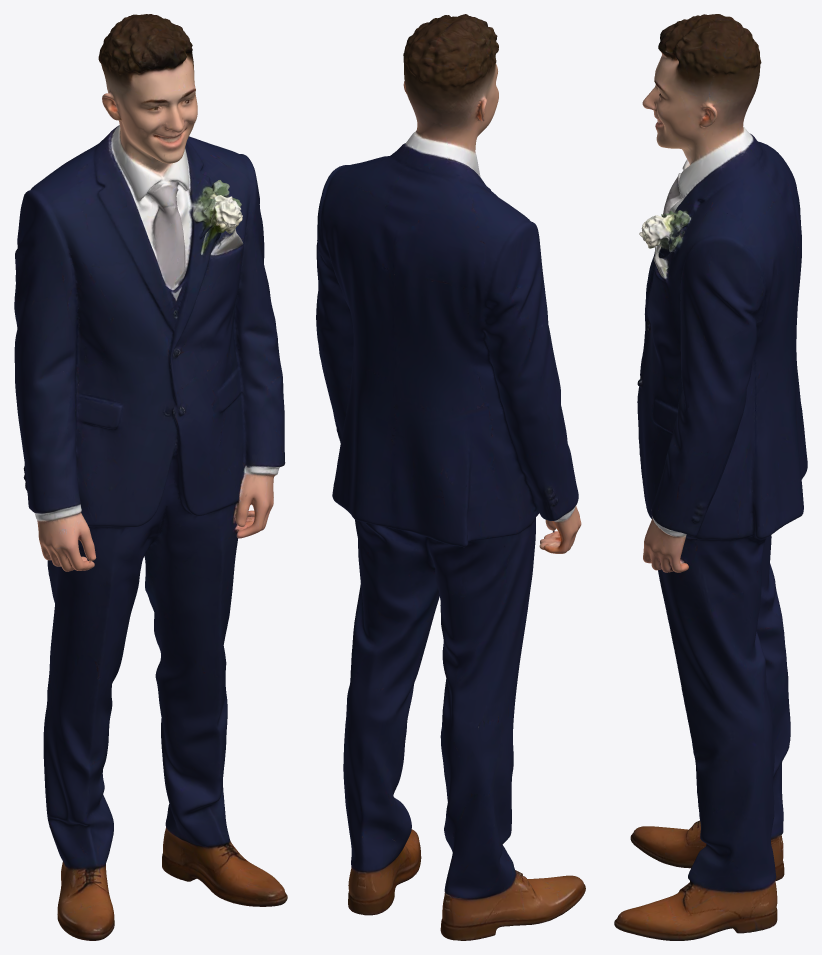
The model's file is groom.glb.
The picture shows the model from 3 angles, left to right: view 1: azimuth 30°, elevation 25°; view 2: azimuth 150°, elevation 25°; view 3: azimuth 270°, elevation 25°; orthographic projection.
Visible parts, largest first — view 1: Object_5; view 2: Object_5; view 3: Object_5.
Boxes of the visible parts, x1,y1,x2,y2 form: Object_5: (14, 14, 287, 940); Object_5: (316, 14, 585, 940); Object_5: (614, 14, 807, 940).
Size of the model in its own units: 0.5495 by 1.9 by 0.3805.
Materials: 1 (1 with a texture image).
